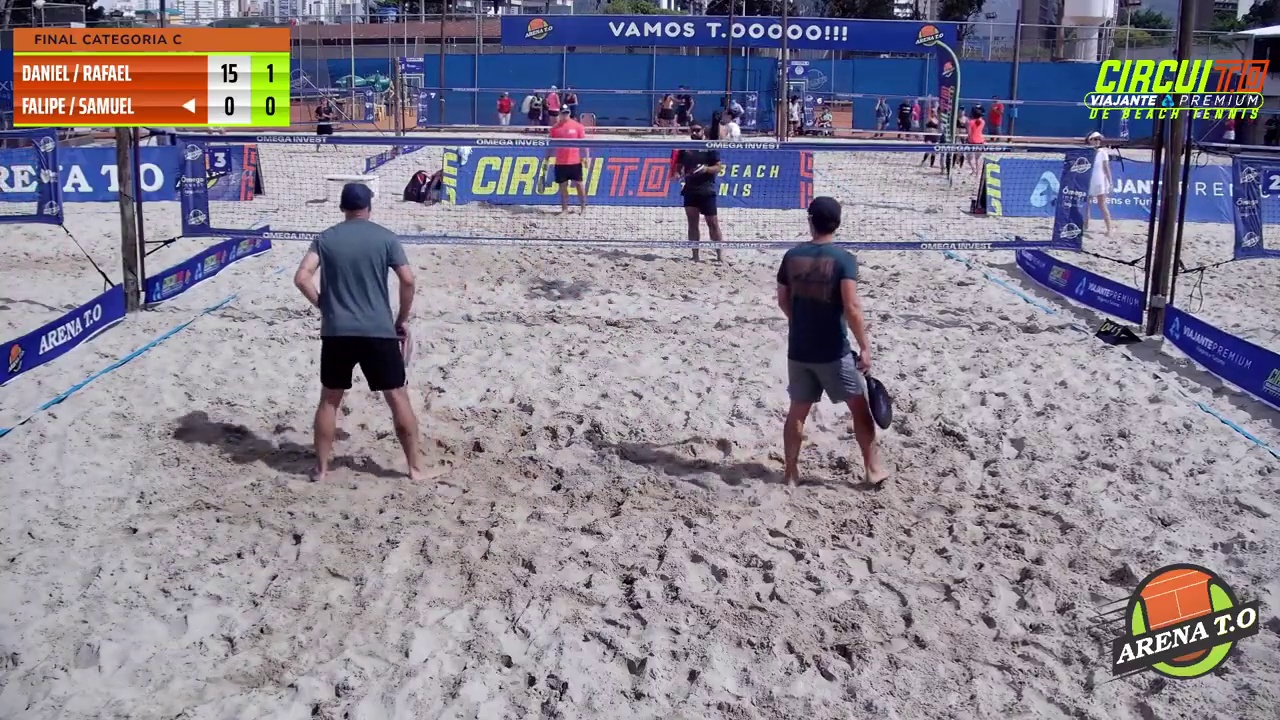court_line: (640, 0, 777, 401)
